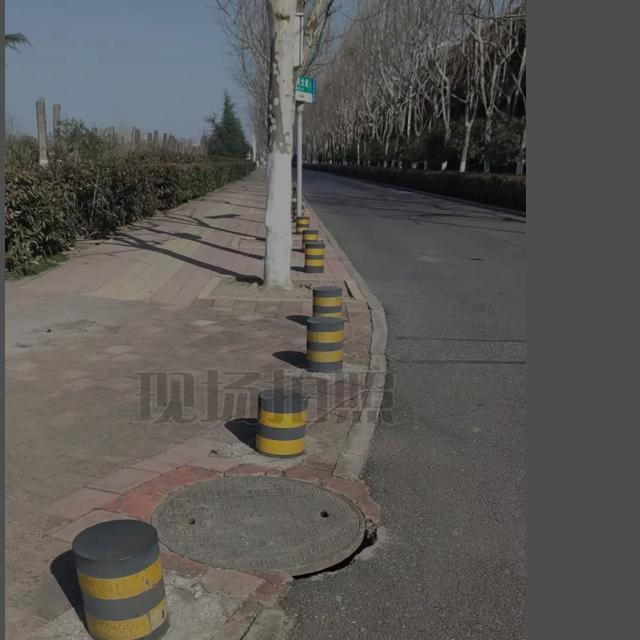circle: (146, 467, 383, 587)
